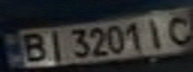0: (106, 21, 127, 55)
1: (121, 19, 148, 52)
2: (87, 24, 112, 57)
3: (66, 25, 90, 60)
B: (15, 30, 51, 64)
C: (160, 11, 193, 46)
I: (139, 16, 172, 48), (42, 28, 69, 61)
